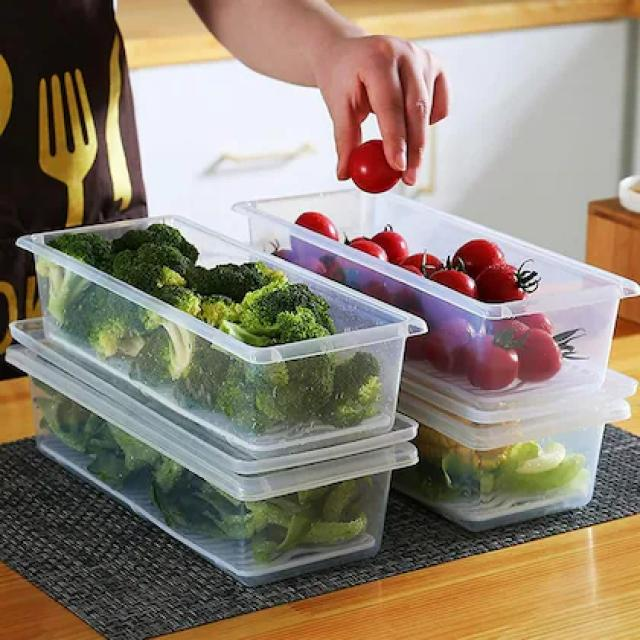plastic_box: (0, 172, 474, 476), (0, 309, 422, 611), (239, 130, 638, 411), (392, 362, 637, 554)
